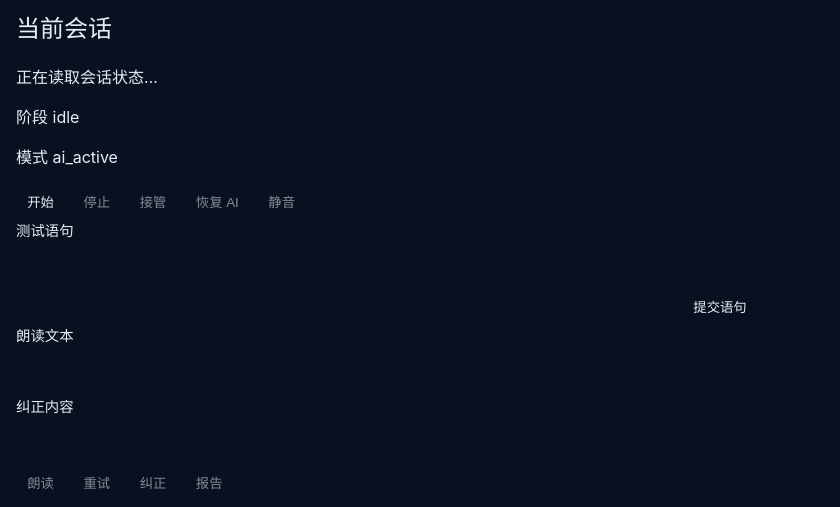
Test: WorkspaceSession › surfaces blocked preflight issues and start field errors
Click the button "开始" at coordinates (40, 201), box [16,184,65,219]
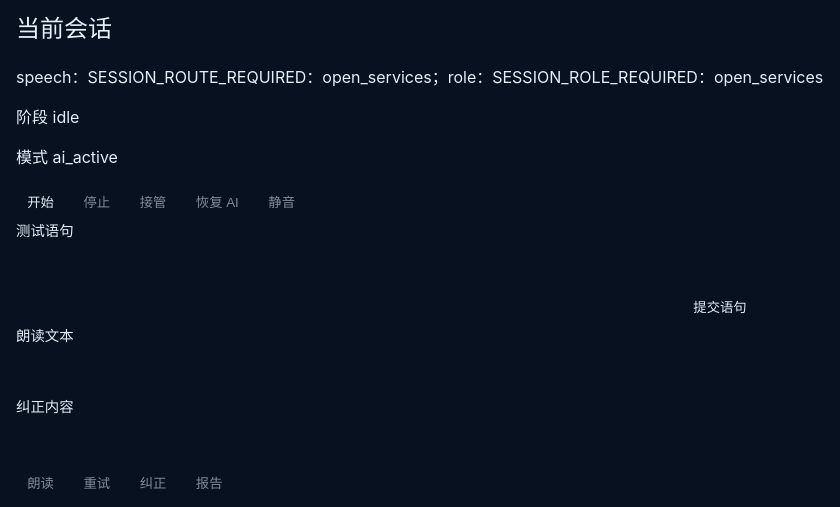
Expected: the message shows "speech：SESSION_ROUTE_REQUIRED：open_services", [16,67,823,87]
Expected: the message shows "role：SESSION_ROLE_REQUIRED：open_services", [16,67,823,87]
Click the button "开始" at coordinates (40, 201), box [16,184,65,219]
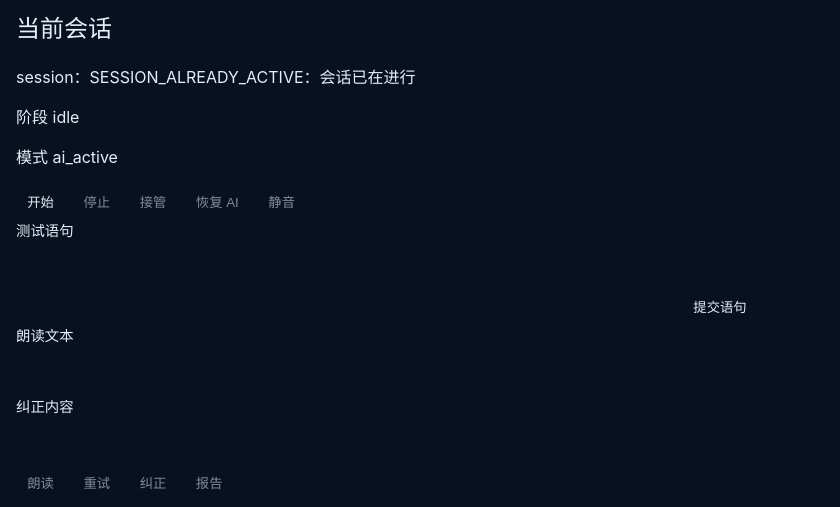
Expected: the message reads "session：SESSION_ALREADY_ACTIVE：会话已在进行", [16,67,416,87]
